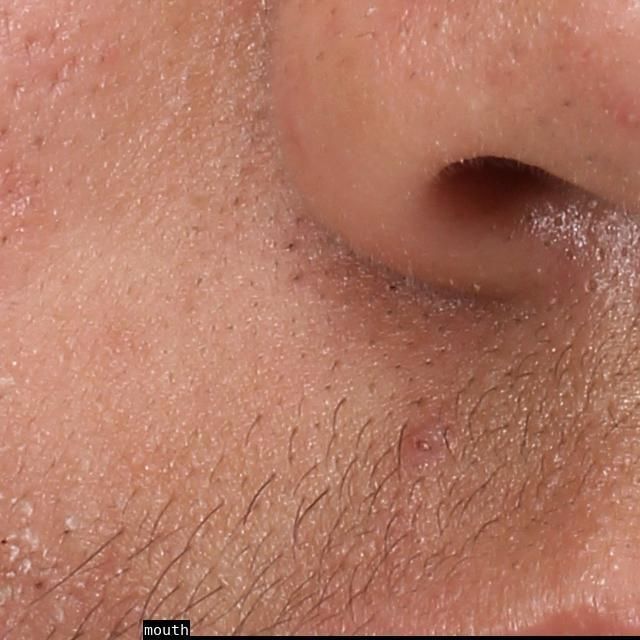comedo: (580, 275, 604, 301)
